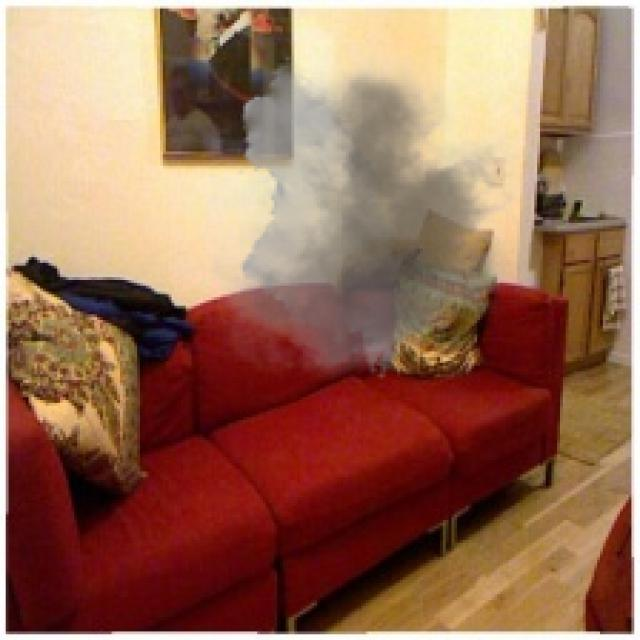smoke: (166, 43, 540, 391)
